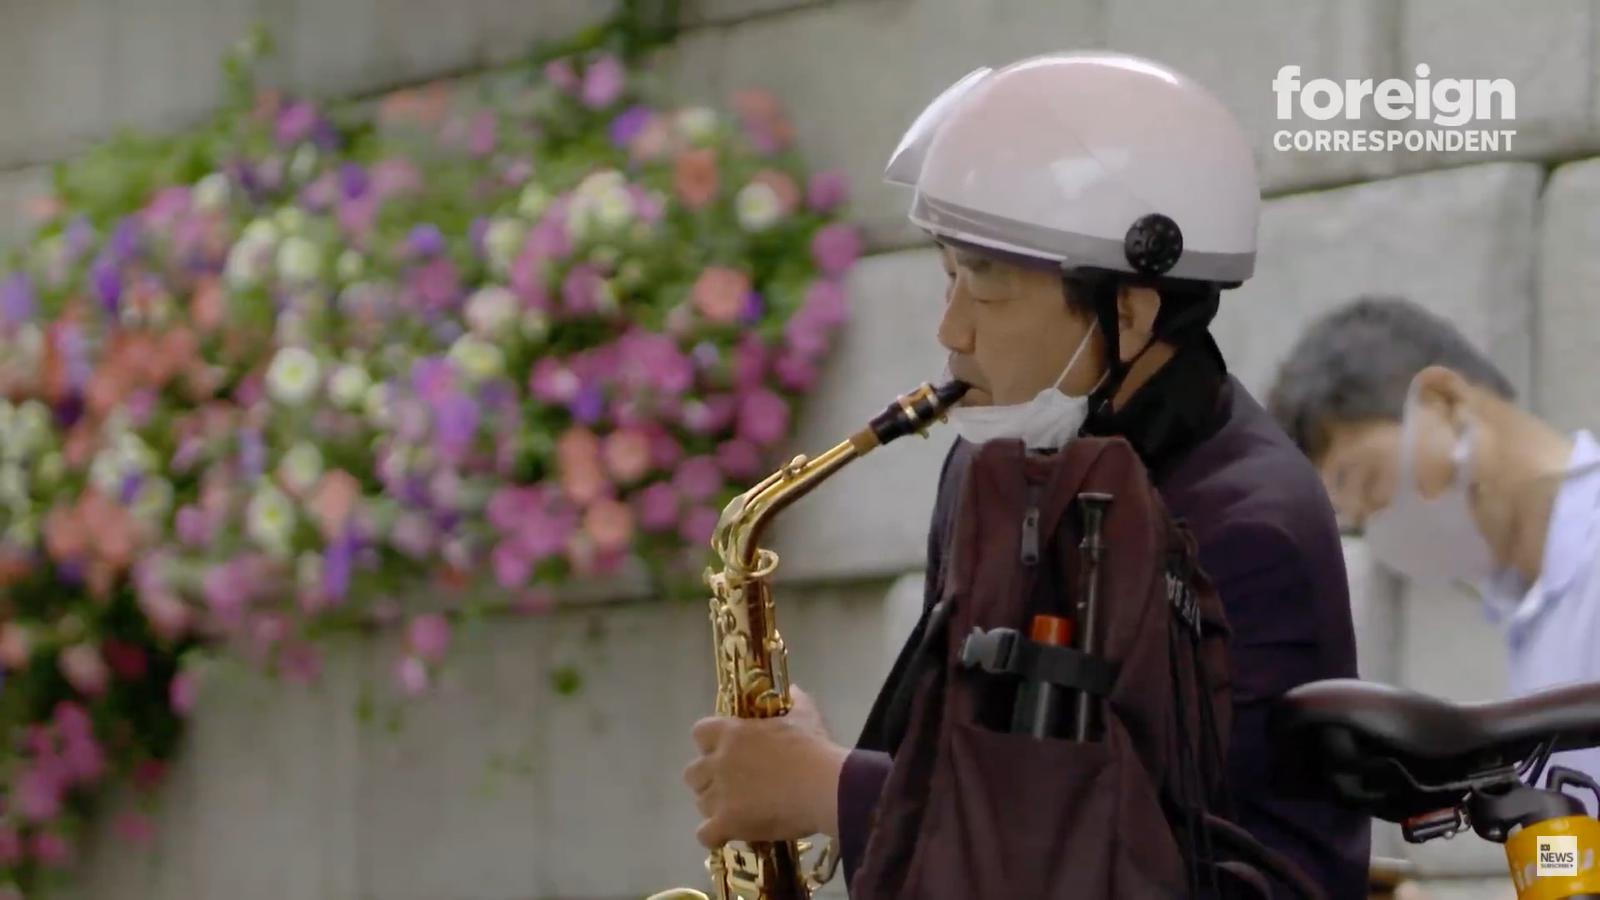with_incorrect_mask: (938, 236, 1078, 415)
with_mask: (1352, 406, 1491, 546)
